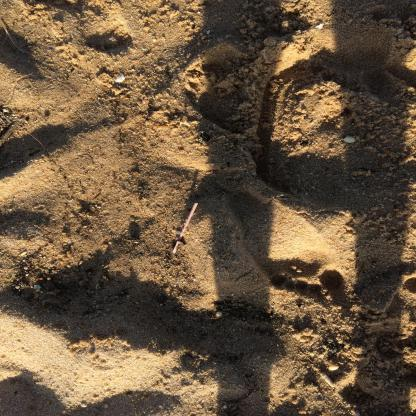plastik: (172, 204, 201, 254)
